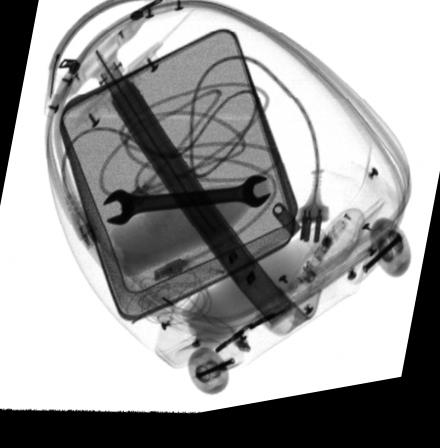Wrench: (102, 184, 271, 229)
